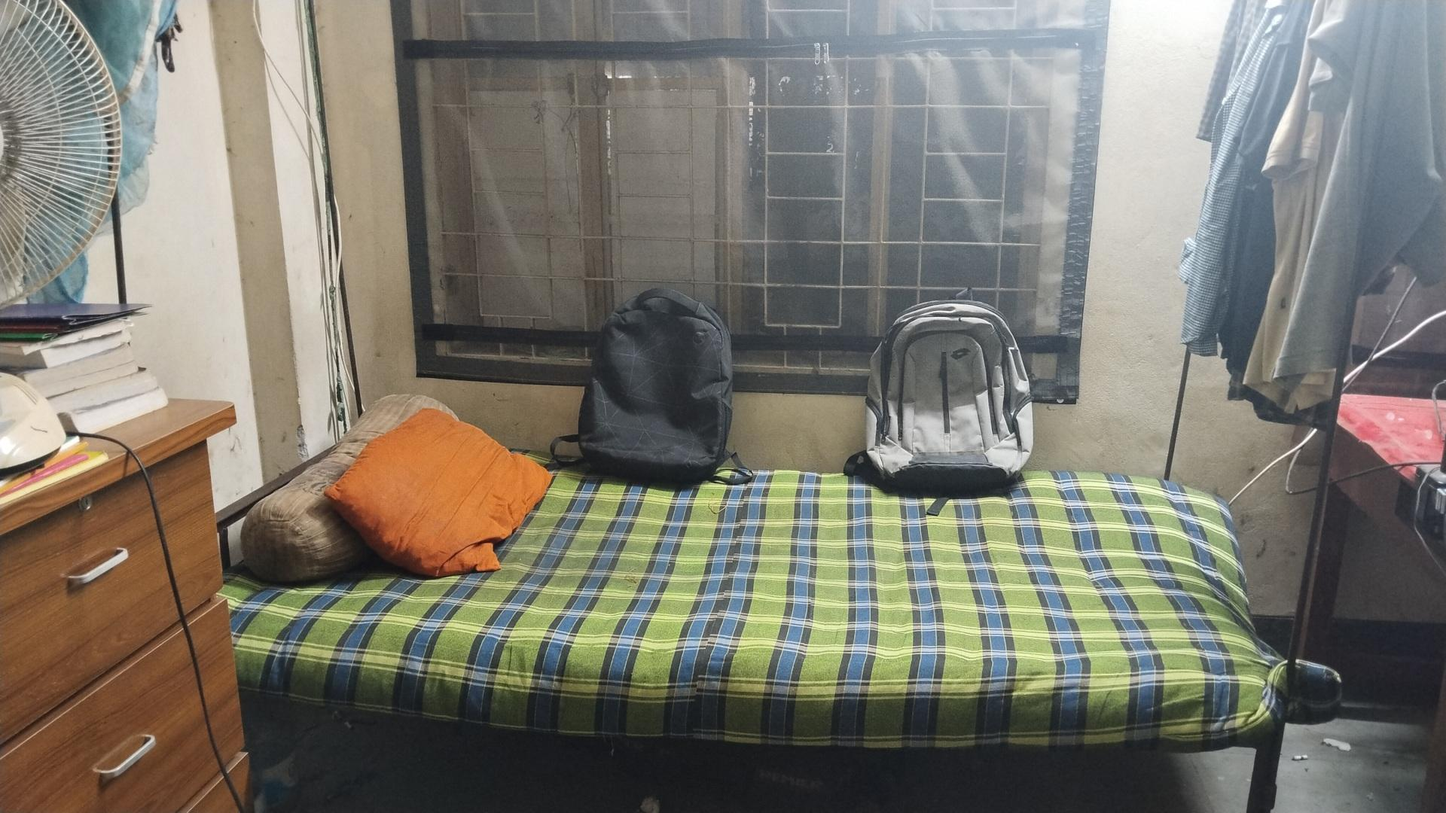Bag: (864, 297, 1034, 481), (581, 289, 734, 491)
Pillow: (336, 404, 555, 572)
